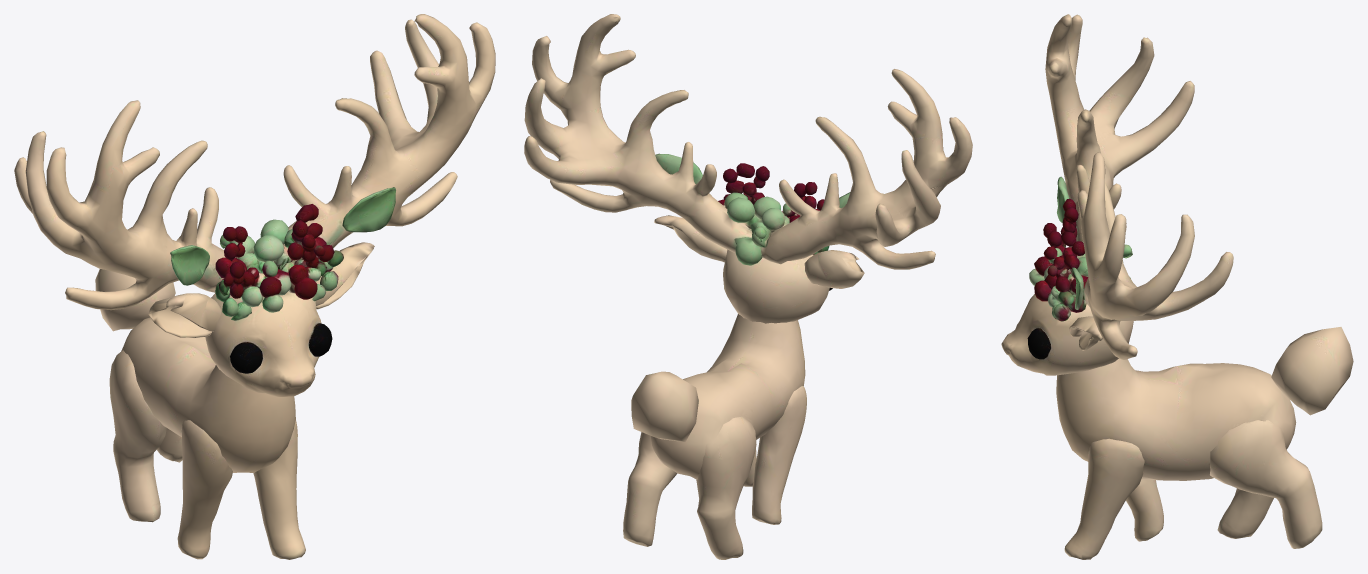
The model's file is dino_deer_3.glb.
The picture shows the model from 3 angles, left to right: view 1: azimuth 30°, elevation 25°; view 2: azimuth 150°, elevation 25°; view 3: azimuth 270°, elevation 25°; orthographic projection. The views are drawn at different scales.
Visible parts, largest first — view 1: mesh_node.001; view 2: mesh_node.001; view 3: mesh_node.001.
Part boxes in pixels (x1,y1,x2,y2): mesh_node.001: [14, 14, 495, 559]; mesh_node.001: [524, 14, 972, 559]; mesh_node.001: [1001, 14, 1353, 559].
Size of the model in its own units: 0.9894 by 1.02 by 0.6851.
Materials: 1 (1 with a texture image).
